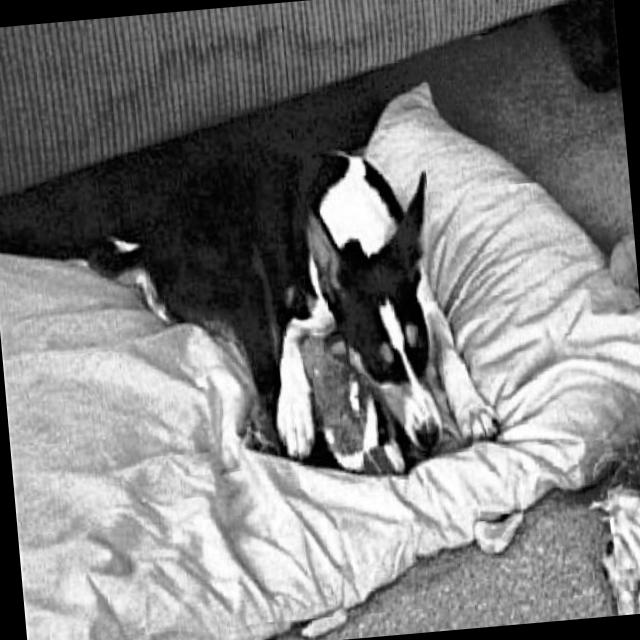Dog: (75, 112, 502, 490)
